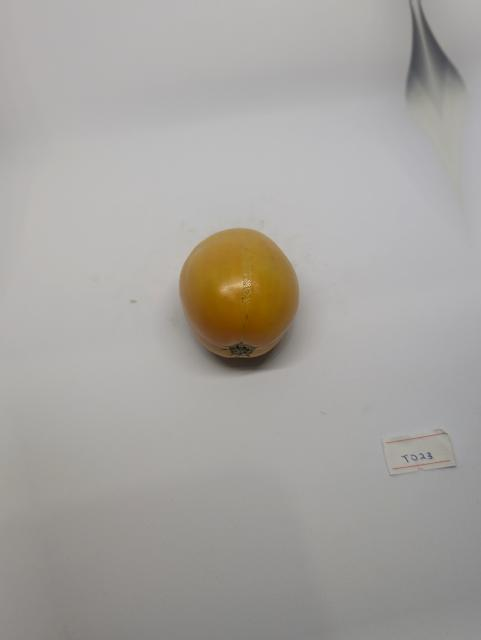turning: (171, 223, 311, 375)
